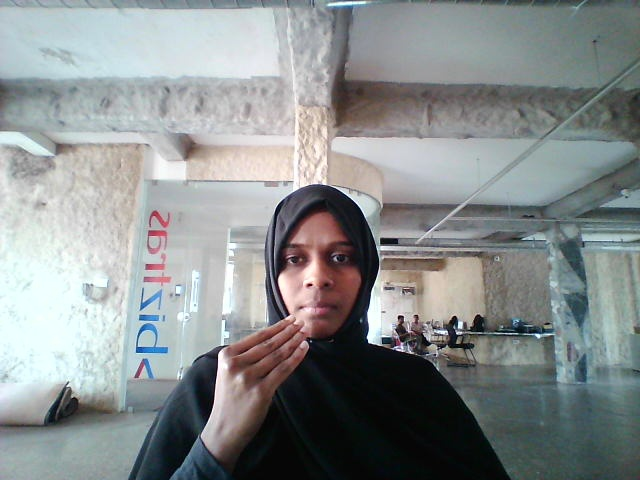THANKS: (164, 308, 320, 462)
